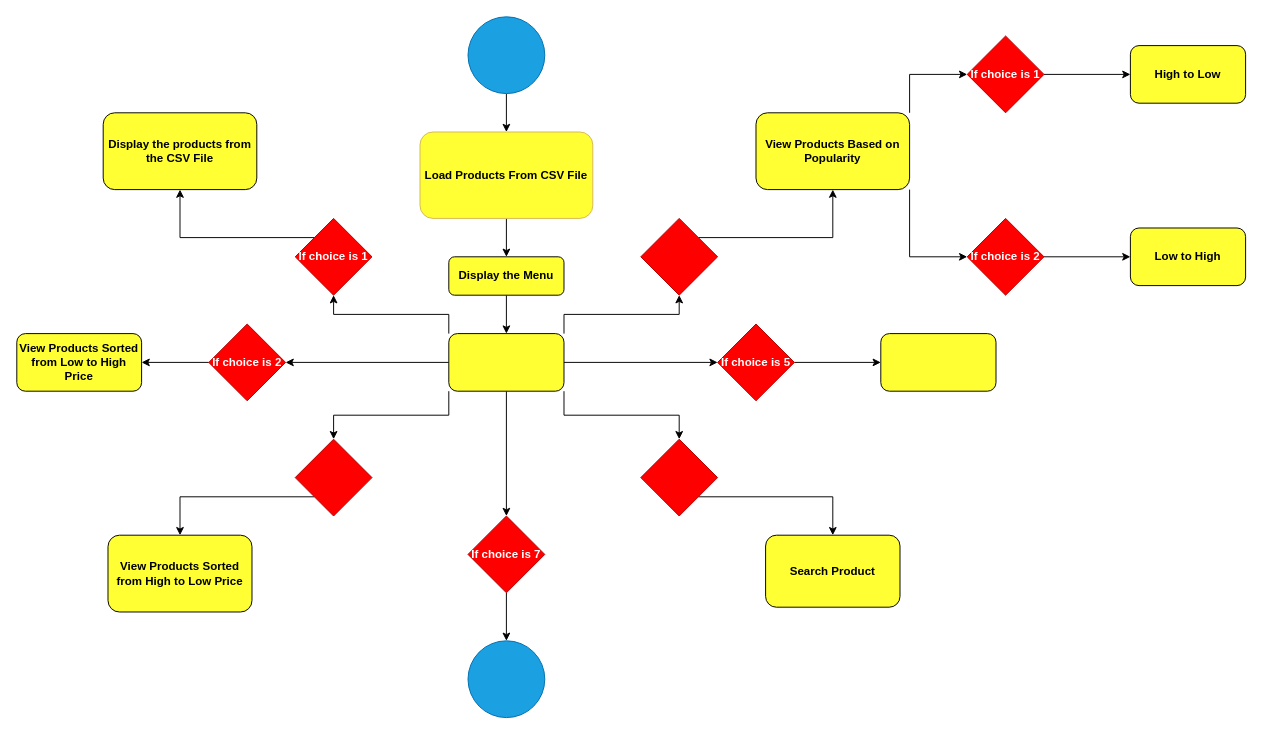
Some shapes in this 1262 by 734 pixel diagram are drawn without their labels. The centre of each missing label's shape, as x and y in pixels:
"Exit" belongs at (x=506, y=679).
"If choice is 3" belongs at (x=333, y=477).
"If choice is 4" belongs at (x=679, y=256).
"If choice is 6" belongs at (x=679, y=477).
"Product Recommendations" belongs at (x=938, y=362).
"Start" belongs at (x=506, y=55).
"User Choice" belongs at (x=506, y=362).
